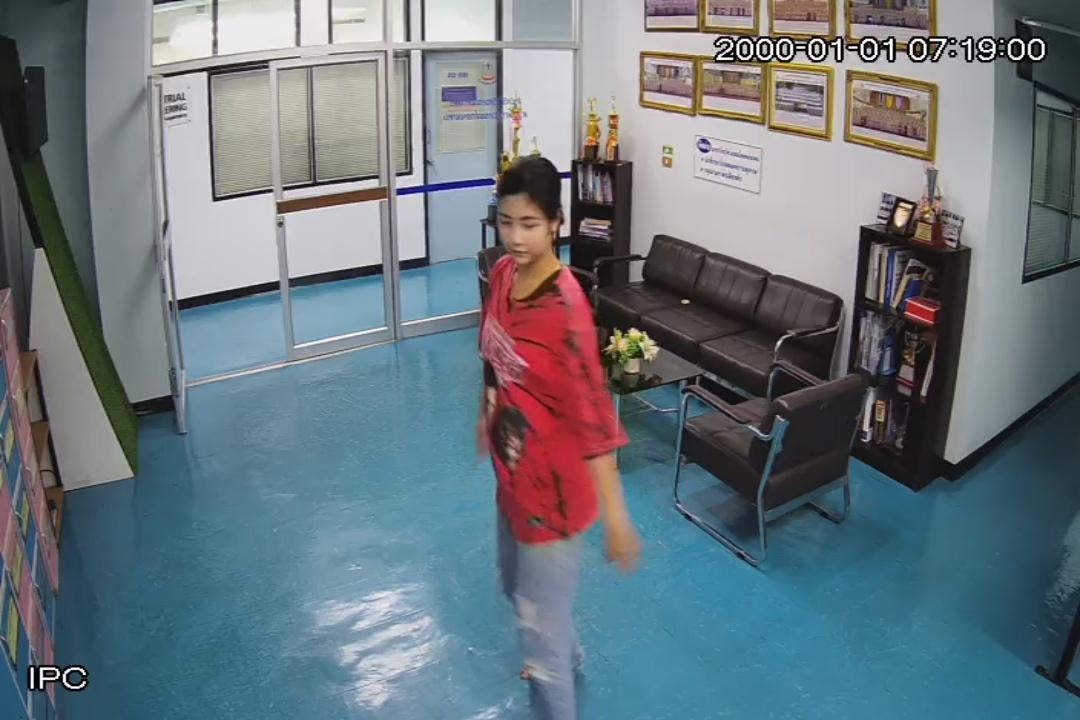normal: (470, 142, 658, 720)
